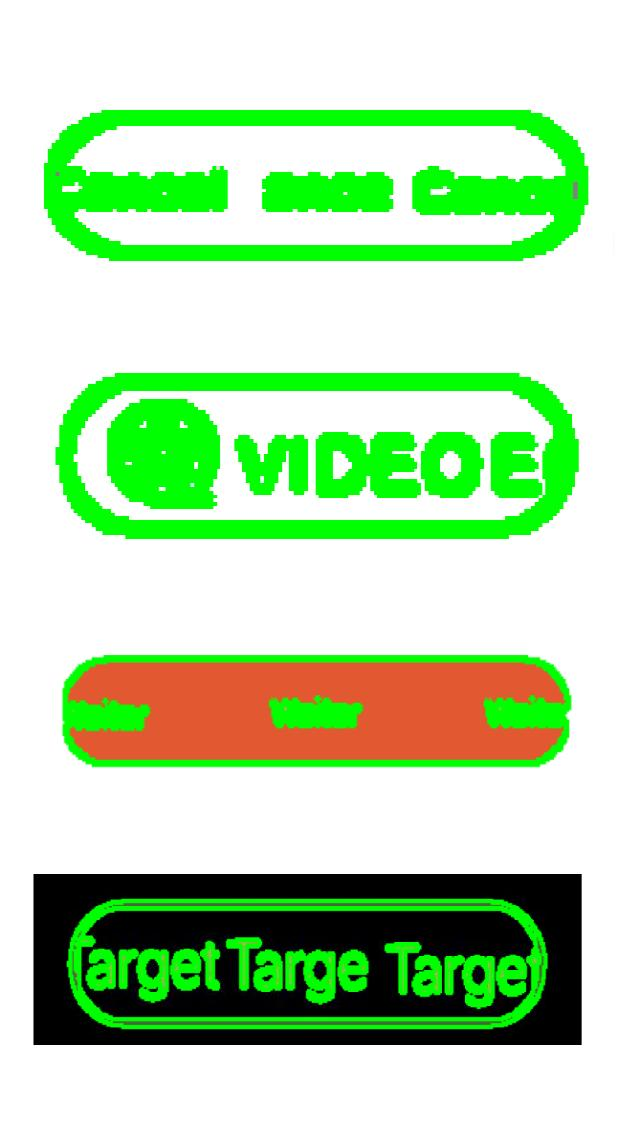WS1: (505, 95, 603, 268), (46, 888, 154, 1044), (20, 101, 114, 273), (502, 377, 594, 544), (35, 638, 125, 795), (476, 888, 567, 1028), (505, 632, 588, 782)
